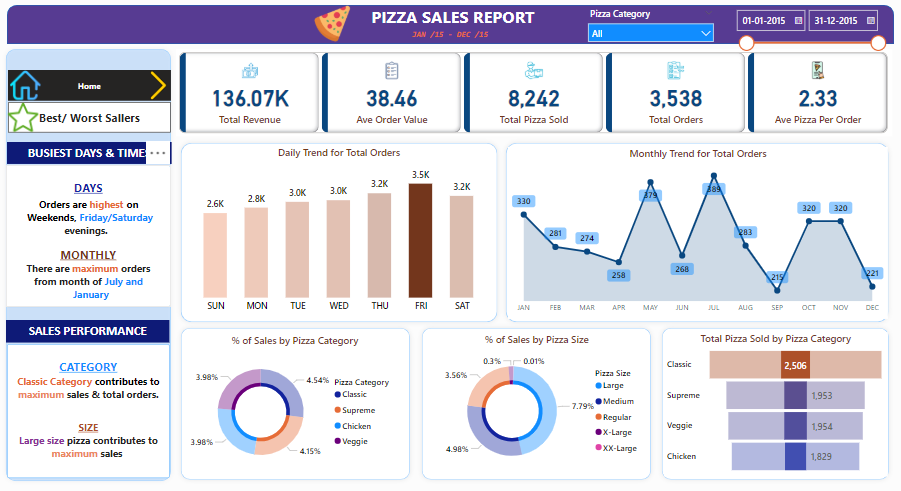

This screenshot's page, from the dashboard's own definition file:
{"tool":"powerbi","page":{"name":"Home","canvas":[1500,820],"ordinal":0},"visuals":[{"type":"shape","box":[16.7,78.3,286.7,725],"z":0},{"type":"textbox","box":[25.7,240,270,35.7],"z":1000},{"type":"cardVisual","fields":{"Data":["pizza_sales.Total Revenue","pizza_sales.Ave Order Value","pizza_sales.Total Pizza Sold","pizza_sales.Total Orders","pizza_sales.Ave Pizza Per Order"]},"box":[303.3,86.7,1175,143.3],"z":2000},{"type":"shape","box":[26.2,14.8,1454.7,64],"z":3000},{"type":"textbox","box":[603.5,9.8,300.1,49.2],"z":4000},{"type":"textbox","box":[685.5,47.6,157.4,27.9],"z":5000},{"type":"image","box":[523.2,9.8,73.8,70.5],"z":6000},{"type":"shape","box":[303.3,233.3,535,310],"z":7000},{"type":"columnChart","title":"Daily Trend for Total Orders","fields":{"Category":["pizza_sales.Order Day"],"Y":["pizza_sales.Total Orders"]},"box":[316.7,246.7,508.3,281.7],"z":8000},{"type":"shape","box":[836.7,233.3,643.3,310],"z":9000},{"type":"areaChart","title":"Monthly Trend for Total Orders","fields":{"Y":["pizza_sales.Total Orders"],"Category":["pizza_sales.Order Month"]},"box":[848.3,248.3,623.3,281.7],"z":10000},{"type":"shape","box":[303.3,536.7,391.7,265],"z":11000},{"type":"shape","box":[1091.7,536.7,388.3,265],"z":12000},{"type":"shape","box":[698.3,536.7,391.7,265],"z":13000},{"type":"donutChart","title":"% of Sales by Pizza Category","fields":{"Category":["pizza_sales.pizza_category"],"Y":["pizza_sales.Total Revenue"]},"box":[316.7,555,363.3,235],"z":14000},{"type":"donutChart","title":"% of Sales by Pizza Size","fields":{"Y":["pizza_sales.Total Revenue"],"Category":["pizza_sales.pizza_size"]},"box":[713.3,553.3,363.3,235],"z":15000},{"type":"funnel","title":"Total Pizza Sold by Pizza Category","fields":{"Y":["pizza_sales.Total Pizza Sold"],"Category":["pizza_sales.pizza_category"]},"box":[1103.3,551.7,366.7,236.7],"z":16000},{"type":"textbox","box":[25,276.7,270,233.3],"z":17000},{"type":"textbox","box":[26.7,570,266.7,220],"z":18000},{"type":"textbox","box":[25,531.7,268.3,36.7],"z":19000},{"type":"slicer","fields":{"Values":["pizza_sales.pizza_category"]},"box":[969.2,13.1,226.3,62.3],"z":20000},{"type":"multiRowCard","fields":{"Values":["pizza_sales.order_date"]},"box":[1210.3,13.1,265.7,83.6],"z":21000},{"type":"pageNavigator","box":[27.1,121.4,267.1,50],"z":22000},{"type":"pageNavigator","box":[27.1,174.3,267.1,50],"z":23000},{"type":"image","box":[246.7,118.3,56.7,56.7],"z":24000},{"type":"image","box":[26.7,116.7,60,60],"z":25000},{"type":"image","box":[20,168.3,66.7,60],"z":26000}]}

Visuals, with their boxes in screenshot pixels (x1, y1, x2, y2), scaled from the page's 1500x820 canvas onto the 901x491 screenshot:
shape: crop(10, 47, 182, 481)
textbox: crop(15, 144, 178, 165)
cardVisual - pizza_sales.Total Revenue x pizza_sales.Ave Order Value: crop(182, 52, 888, 138)
shape: crop(16, 9, 890, 47)
textbox: crop(363, 6, 543, 35)
textbox: crop(412, 29, 506, 45)
image: crop(314, 6, 359, 48)
shape: crop(182, 140, 504, 325)
"Daily Trend for Total Orders" columnChart: crop(190, 148, 496, 316)
shape: crop(503, 140, 889, 325)
"Monthly Trend for Total Orders" areaChart: crop(510, 149, 884, 317)
shape: crop(182, 321, 417, 480)
shape: crop(656, 321, 889, 480)
shape: crop(419, 321, 655, 480)
"% of Sales by Pizza Category" donutChart: crop(190, 332, 408, 473)
"% of Sales by Pizza Size" donutChart: crop(428, 331, 647, 472)
"Total Pizza Sold by Pizza Category" funnel: crop(663, 330, 883, 472)
textbox: crop(15, 166, 177, 305)
textbox: crop(16, 341, 176, 473)
textbox: crop(15, 318, 176, 340)
slicer - pizza_sales.pizza_category: crop(582, 8, 718, 45)
multiRowCard - pizza_sales.order_date: crop(727, 8, 887, 58)
pageNavigator: crop(16, 73, 177, 103)
pageNavigator: crop(16, 104, 177, 134)
image: crop(148, 71, 182, 105)
image: crop(16, 70, 52, 106)
image: crop(12, 101, 52, 137)
